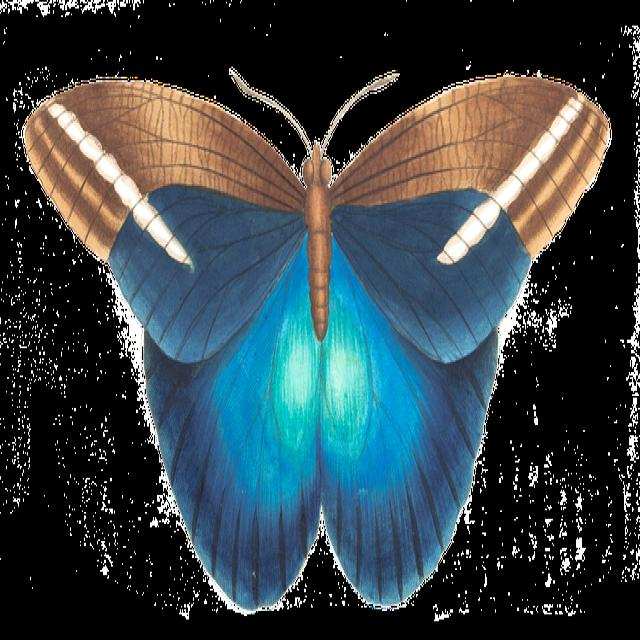butterfly: (24, 81, 609, 609)
